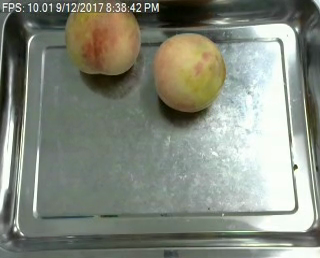Peach: (153, 31, 226, 112), (65, 0, 141, 75)
